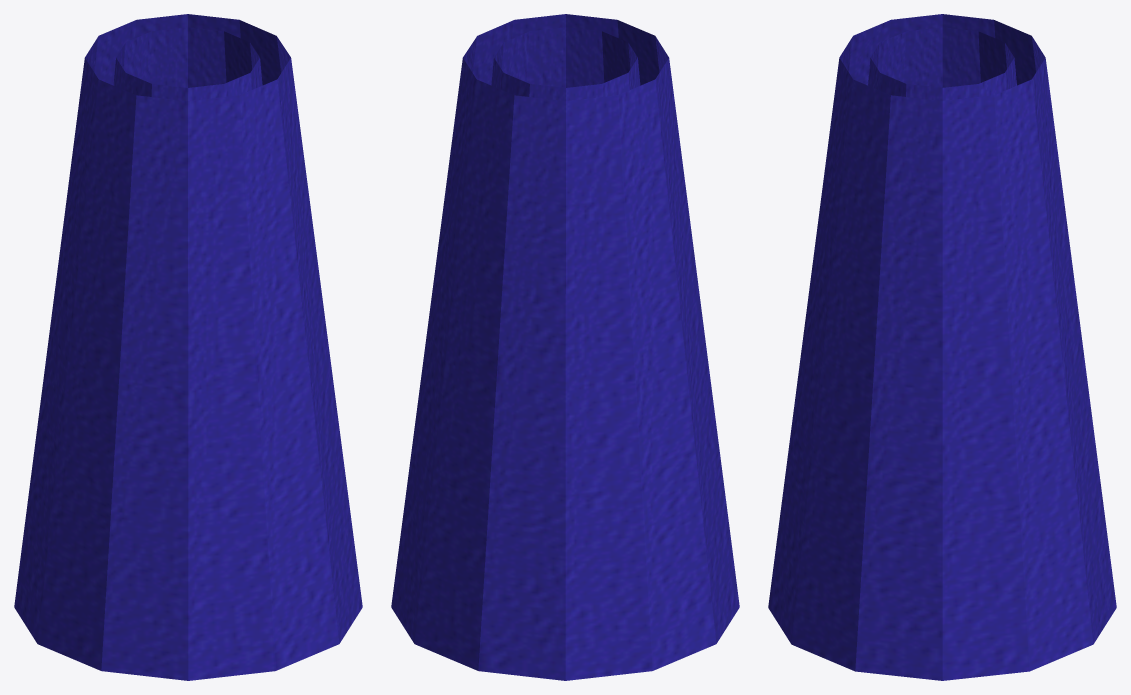
The model's file is TEMPLELIFEB.fbx.
3 views of the same model, side by side, from view 1: azimuth 30°, elevation 25°; view 2: azimuth 150°, elevation 25°; view 3: azimuth 270°, elevation 25° (orthographic).
Parts seen in each view (by area): view 1: BEAM; view 2: BEAM; view 3: BEAM.
Part boxes in pixels (x1,y1,x2,y2): BEAM: [14, 14, 362, 680]; BEAM: [391, 14, 739, 680]; BEAM: [768, 14, 1116, 680].
Size of the model in its own units: 15.66 by 27.33 by 15.7.
